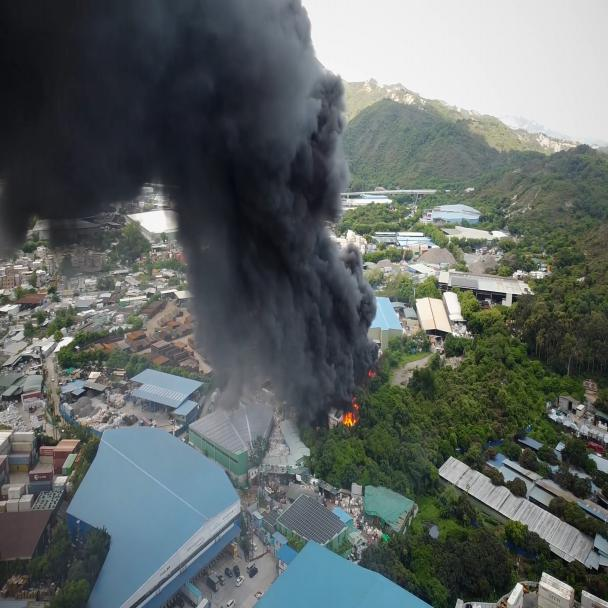Fire: (222, 342, 426, 508)
smoke: (0, 0, 427, 336)
